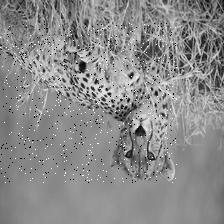Cheetha: (0, 23, 177, 183)
